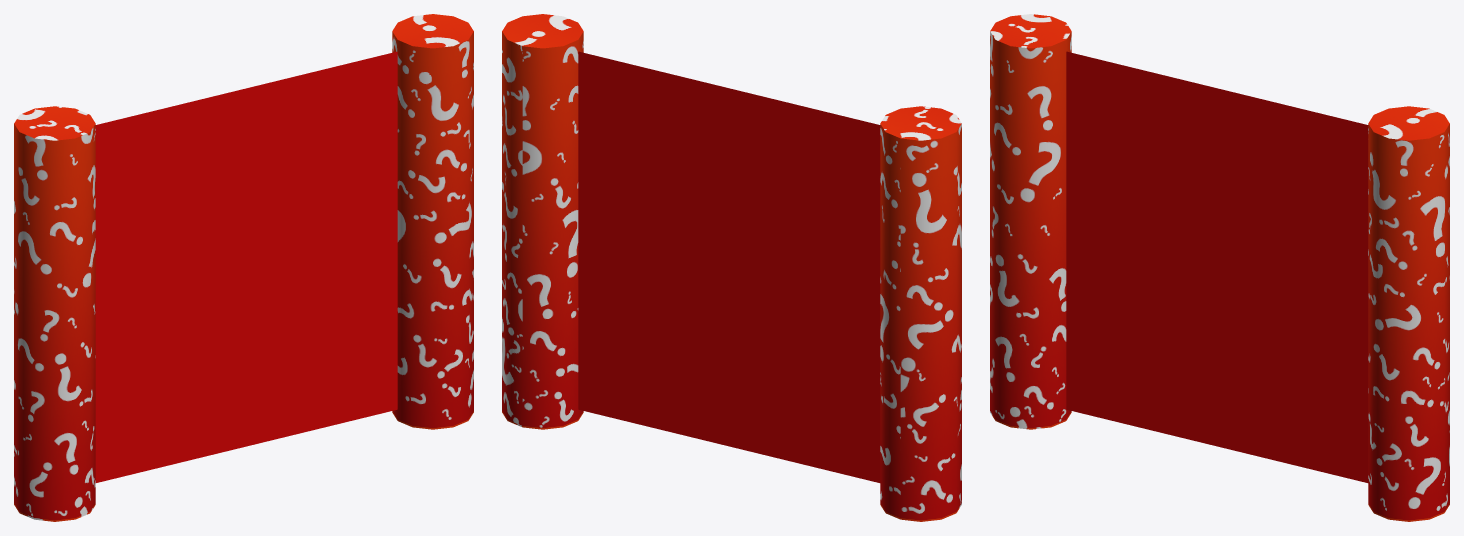
The model's file is Gate.fbx.
3 renders of one model, left to right at view 1: azimuth 30°, elevation 25°; view 2: azimuth 150°, elevation 25°; view 3: azimuth 330°, elevation 25°, orthographic.
Visible parts, largest first — view 1: Cylinder.001; view 2: Cylinder.001; view 3: Cylinder.001.
Part boxes in pixels (<box>): Cylinder.001: <box>14,14,473,521</box>; Cylinder.001: <box>502,14,961,521</box>; Cylinder.001: <box>990,14,1449,521</box>.
Size of the model in its own units: 507 by 411 by 79.87.
2 materials, 1 textured.
